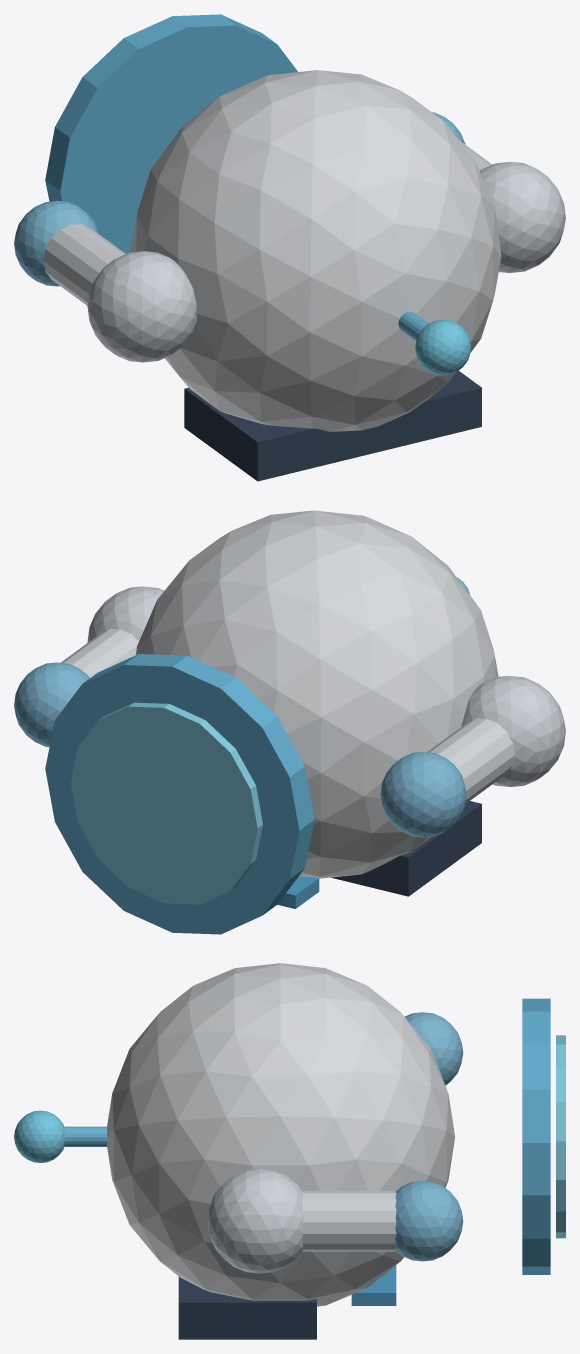
File: kiboy.glb
3 renders of one model, top to bottom at view 1: azimuth 30°, elevation 25°; view 2: azimuth 150°, elevation 25°; view 3: azimuth 270°, elevation 25°, orthographic. The views are drawn at different scales.
Parts seen in each view (by area): view 1: Body, Hover_Ring, Face_Screen, ArmJoint_L, ArmJoint_R, Arm_L, Hand_L, Antenna_Light; view 2: Body, Hover_Glow, Hover_Ring, ArmJoint_L, Hand_L, Face_Screen, Arm_L, Hand_R, ArmJoint_R, Arm_R, SGS_Chest_Badge; view 3: Body, ArmJoint_R, Hover_Ring, Face_Screen, Arm_R, Hand_R, Antenna_Light, Hand_L, Hover_Glow, SGS_Chest_Badge, Top_Antenna.
Part boxes in pixels (x1,y1,x2,y2): Body: (130,70,501,431); Hover_Ring: (45,14,297,253); Face_Screen: (184,370,481,481); ArmJoint_L: (87,251,196,362); ArmJoint_R: (480,161,565,272); Arm_L: (43,224,125,305); Hand_L: (14,201,98,286); Antenna_Light: (415,319,471,375); Body: (136,510,498,878); Hover_Glow: (71,702,262,904); Hover_Ring: (45,654,314,934); ArmJoint_L: (461,675,565,787); Hand_L: (380,752,466,837); Face_Screen: (331,801,481,896); Arm_L: (427,718,515,803); Hand_R: (14,662,89,747); ArmJoint_R: (87,586,163,642); Arm_R: (60,629,138,677); SGS_Chest_Badge: (277,876,319,908); Body: (107,963,454,1306); ArmJoint_R: (207,1168,303,1273); Hover_Ring: (522,998,550,1274); Face_Screen: (178,1277,316,1339); Arm_R: (302,1190,396,1251); Hand_R: (395,1180,463,1261); Antenna_Light: (14,1110,64,1162); Hand_L: (404,1012,463,1085); Hover_Glow: (556,1035,565,1238); SGS_Chest_Badge: (351,1265,396,1305); Top_Antenna: (64,1126,107,1146).
Size of the model in its own units: 1.24 by 0.91 by 1.36.
